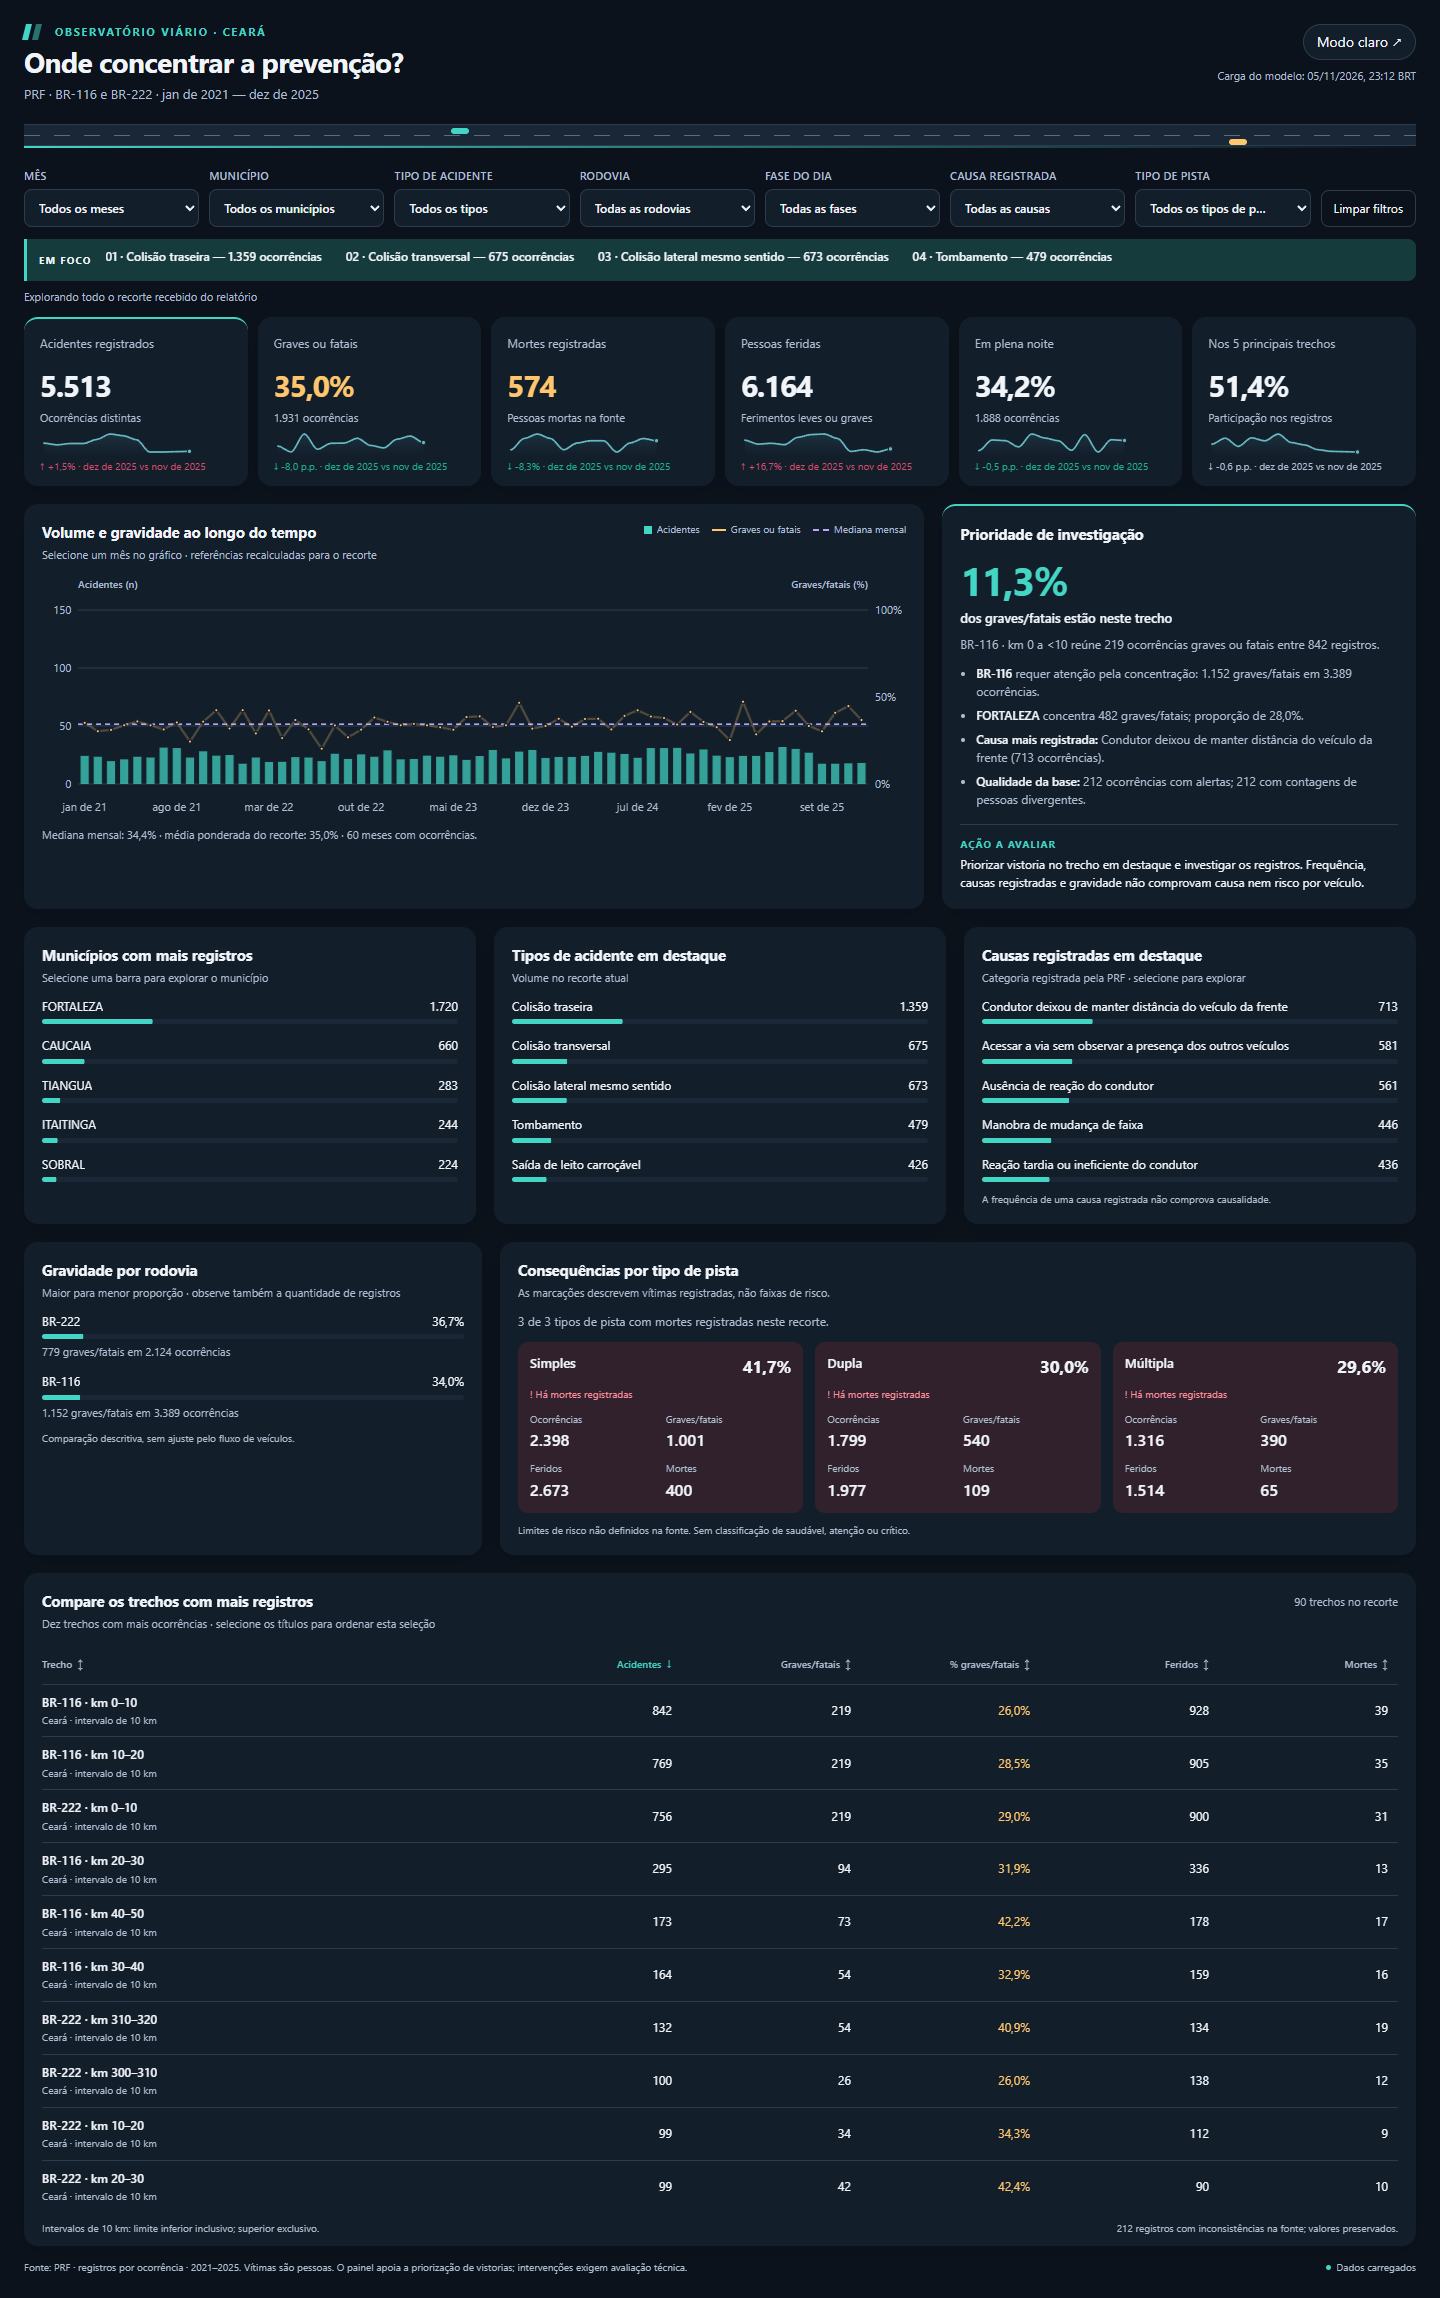

What the dashboard file says about the page in this screenshot:
{"tool":"powerbi","page":{"name":"Página 2","canvas":[1280,720],"ordinal":1},"visuals":[{"type":"htmlContent443BE3AD55E043BF878BED274D3A6855","fields":{"content":["fAcidentes.HTML Dashboard PRF"]},"box":[0,0,1279.8,720.2],"z":0}]}

Visuals, with their boxes on the page's 1280x720 design canvas (x1, y1, x2, y2). These are canvas units, not pixel positions in the 1440x2298 screenshot, which may show the page scaled, cropped or inside an application window:
htmlContent443BE3AD55E043BF878BED274D3A6855 - fAcidentes.HTML Dashboard PRF: <bbox>0, 0, 1280, 720</bbox>
